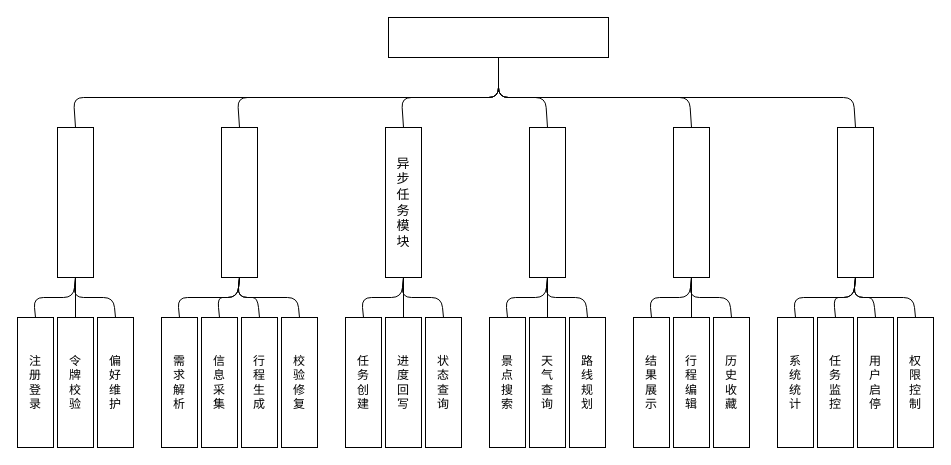
Some shapes in this 951 by 465 pixel diagram are drawn without their labels. The centre of each missing label's shape, as x and y in pixels:
后 台 管 理 模 块: the point at 855,202
地 图 服 务 模 块: the point at 547,202
智 能 规 划 模 块: the point at 239,202
智能旅行规划系统: the point at 498,37
用 户 中 心 模 块: the point at 75,202
行 程 资 产 模 块: the point at 691,202
